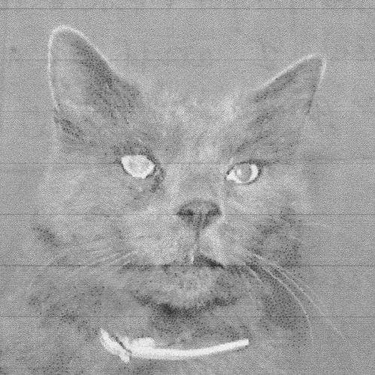cat: (5, 21, 328, 371)
